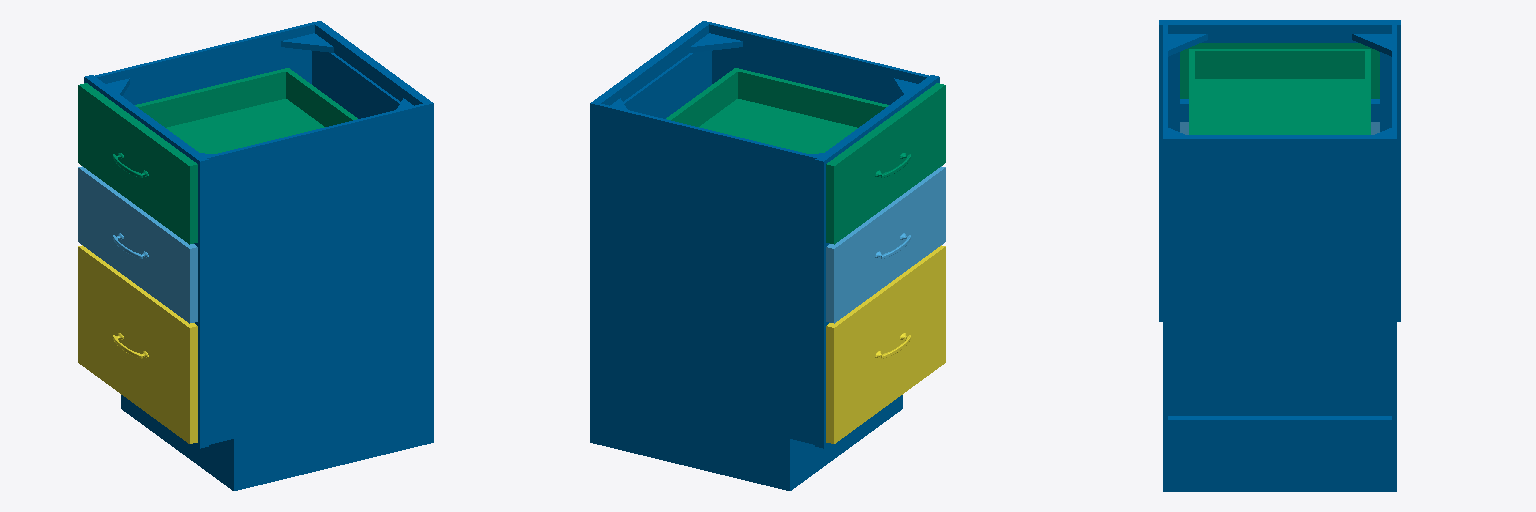
The robot description file, URDF, robot "partnet_226873c8d34e38286d53ab0fe94e911":
<?xml version="1.0" ?>
<robot name="partnet_226873c8d34e38286d53ab0fe94e911">
	<link name="base"/>
	<link name="link_0">
		<visual name="drawer_front-23">
			<origin xyz="-0.005183818093392495 -0.1600198556111904 -0.56632399559021"/>
			<geometry>
				<mesh filename="textured_objs/original-41.obj"/>
			</geometry>
		</visual>
		<visual name="drawer_front-23">
			<origin xyz="-0.005183818093392495 -0.1600198556111904 -0.56632399559021"/>
			<geometry>
				<mesh filename="textured_objs/original-49.obj"/>
			</geometry>
		</visual>
		<visual name="drawer_side-24">
			<origin xyz="-0.005183818093392495 -0.1600198556111904 -0.56632399559021"/>
			<geometry>
				<mesh filename="textured_objs/original-40.obj"/>
			</geometry>
		</visual>
		<visual name="drawer_side-25">
			<origin xyz="-0.005183818093392495 -0.1600198556111904 -0.56632399559021"/>
			<geometry>
				<mesh filename="textured_objs/original-45.obj"/>
			</geometry>
		</visual>
		<visual name="drawer_back-26">
			<origin xyz="-0.005183818093392495 -0.1600198556111904 -0.56632399559021"/>
			<geometry>
				<mesh filename="textured_objs/original-46.obj"/>
			</geometry>
		</visual>
		<visual name="drawer_bottom-27">
			<origin xyz="-0.005183818093392495 -0.1600198556111904 -0.56632399559021"/>
			<geometry>
				<mesh filename="textured_objs/original-44.obj"/>
			</geometry>
		</visual>
		<visual name="drawer_bottom-27">
			<origin xyz="-0.005183818093392495 -0.1600198556111904 -0.56632399559021"/>
			<geometry>
				<mesh filename="textured_objs/original-43.obj"/>
			</geometry>
		</visual>
		<visual name="handle-22">
			<origin xyz="-0.005183818093392495 -0.1600198556111904 -0.56632399559021"/>
			<geometry>
				<mesh filename="textured_objs/original-50.obj"/>
			</geometry>
		</visual>
		<visual name="drawer_slider-56">
			<origin xyz="-0.005183818093392495 -0.1600198556111904 -0.56632399559021"/>
			<geometry>
				<mesh filename="textured_objs/original-47.obj"/>
			</geometry>
		</visual>
		<collision>
			<origin xyz="-0.005183818093392495 -0.1600198556111904 -0.56632399559021"/>
			<geometry>
				<mesh filename="textured_objs/original-41.obj"/>
			</geometry>
		</collision>
		<collision>
			<origin xyz="-0.005183818093392495 -0.1600198556111904 -0.56632399559021"/>
			<geometry>
				<mesh filename="textured_objs/original-49.obj"/>
			</geometry>
		</collision>
		<collision>
			<origin xyz="-0.005183818093392495 -0.1600198556111904 -0.56632399559021"/>
			<geometry>
				<mesh filename="textured_objs/original-40.obj"/>
			</geometry>
		</collision>
		<collision>
			<origin xyz="-0.005183818093392495 -0.1600198556111904 -0.56632399559021"/>
			<geometry>
				<mesh filename="textured_objs/original-45.obj"/>
			</geometry>
		</collision>
		<collision>
			<origin xyz="-0.005183818093392495 -0.1600198556111904 -0.56632399559021"/>
			<geometry>
				<mesh filename="textured_objs/original-46.obj"/>
			</geometry>
		</collision>
		<collision>
			<origin xyz="-0.005183818093392495 -0.1600198556111904 -0.56632399559021"/>
			<geometry>
				<mesh filename="textured_objs/original-44.obj"/>
			</geometry>
		</collision>
		<collision>
			<origin xyz="-0.005183818093392495 -0.1600198556111904 -0.56632399559021"/>
			<geometry>
				<mesh filename="textured_objs/original-43.obj"/>
			</geometry>
		</collision>
		<collision>
			<origin xyz="-0.005183818093392495 -0.1600198556111904 -0.56632399559021"/>
			<geometry>
				<mesh filename="textured_objs/original-50.obj"/>
			</geometry>
		</collision>
		<collision>
			<origin xyz="-0.005183818093392495 -0.1600198556111904 -0.56632399559021"/>
			<geometry>
				<mesh filename="textured_objs/original-47.obj"/>
			</geometry>
		</collision>
	</link>
	<joint name="joint_0" type="prismatic">
		<origin xyz="0.005183818093392495 0.1600198556111904 0.56632399559021"/>
		<axis xyz="0 0 0.9999999999999999"/>
		<child link="link_0"/>
		<parent link="link_3"/>
		<limit lower="0" upper="0.7240000000000002"/>
	</joint>
	<link name="link_1">
		<visual name="drawer_front-16">
			<origin xyz="-0.028953681445611588 -0.5145035068587894 -0.56632399559021"/>
			<geometry>
				<mesh filename="textured_objs/original-28.obj"/>
			</geometry>
		</visual>
		<visual name="drawer_front-16">
			<origin xyz="-0.028953681445611588 -0.5145035068587894 -0.56632399559021"/>
			<geometry>
				<mesh filename="textured_objs/original-36.obj"/>
			</geometry>
		</visual>
		<visual name="drawer_side-17">
			<origin xyz="-0.028953681445611588 -0.5145035068587894 -0.56632399559021"/>
			<geometry>
				<mesh filename="textured_objs/original-27.obj"/>
			</geometry>
		</visual>
		<visual name="drawer_side-18">
			<origin xyz="-0.028953681445611588 -0.5145035068587894 -0.56632399559021"/>
			<geometry>
				<mesh filename="textured_objs/original-32.obj"/>
			</geometry>
		</visual>
		<visual name="drawer_back-19">
			<origin xyz="-0.028953681445611588 -0.5145035068587894 -0.56632399559021"/>
			<geometry>
				<mesh filename="textured_objs/original-33.obj"/>
			</geometry>
		</visual>
		<visual name="drawer_bottom-20">
			<origin xyz="-0.028953681445611588 -0.5145035068587894 -0.56632399559021"/>
			<geometry>
				<mesh filename="textured_objs/original-31.obj"/>
			</geometry>
		</visual>
		<visual name="drawer_bottom-20">
			<origin xyz="-0.028953681445611588 -0.5145035068587894 -0.56632399559021"/>
			<geometry>
				<mesh filename="textured_objs/original-30.obj"/>
			</geometry>
		</visual>
		<visual name="handle-15">
			<origin xyz="-0.028953681445611588 -0.5145035068587894 -0.56632399559021"/>
			<geometry>
				<mesh filename="textured_objs/original-37.obj"/>
			</geometry>
		</visual>
		<visual name="drawer_slider-57">
			<origin xyz="-0.028953681445611588 -0.5145035068587894 -0.56632399559021"/>
			<geometry>
				<mesh filename="textured_objs/original-34.obj"/>
			</geometry>
		</visual>
		<collision>
			<origin xyz="-0.028953681445611588 -0.5145035068587894 -0.56632399559021"/>
			<geometry>
				<mesh filename="textured_objs/original-28.obj"/>
			</geometry>
		</collision>
		<collision>
			<origin xyz="-0.028953681445611588 -0.5145035068587894 -0.56632399559021"/>
			<geometry>
				<mesh filename="textured_objs/original-36.obj"/>
			</geometry>
		</collision>
		<collision>
			<origin xyz="-0.028953681445611588 -0.5145035068587894 -0.56632399559021"/>
			<geometry>
				<mesh filename="textured_objs/original-27.obj"/>
			</geometry>
		</collision>
		<collision>
			<origin xyz="-0.028953681445611588 -0.5145035068587894 -0.56632399559021"/>
			<geometry>
				<mesh filename="textured_objs/original-32.obj"/>
			</geometry>
		</collision>
		<collision>
			<origin xyz="-0.028953681445611588 -0.5145035068587894 -0.56632399559021"/>
			<geometry>
				<mesh filename="textured_objs/original-33.obj"/>
			</geometry>
		</collision>
		<collision>
			<origin xyz="-0.028953681445611588 -0.5145035068587894 -0.56632399559021"/>
			<geometry>
				<mesh filename="textured_objs/original-31.obj"/>
			</geometry>
		</collision>
		<collision>
			<origin xyz="-0.028953681445611588 -0.5145035068587894 -0.56632399559021"/>
			<geometry>
				<mesh filename="textured_objs/original-30.obj"/>
			</geometry>
		</collision>
		<collision>
			<origin xyz="-0.028953681445611588 -0.5145035068587894 -0.56632399559021"/>
			<geometry>
				<mesh filename="textured_objs/original-37.obj"/>
			</geometry>
		</collision>
		<collision>
			<origin xyz="-0.028953681445611588 -0.5145035068587894 -0.56632399559021"/>
			<geometry>
				<mesh filename="textured_objs/original-34.obj"/>
			</geometry>
		</collision>
	</link>
	<joint name="joint_1" type="prismatic">
		<origin xyz="0.028953681445611588 0.5145035068587894 0.56632399559021"/>
		<axis xyz="0 0 1"/>
		<child link="link_1"/>
		<parent link="link_3"/>
		<limit lower="0" upper="0.7240000000000002"/>
	</joint>
	<link name="link_2">
		<visual name="drawer_front-9">
			<origin xyz="-0.027770871365069984 0.23903412305902877 0.5026260018348694"/>
			<geometry>
				<mesh filename="textured_objs/original-54.obj"/>
			</geometry>
		</visual>
		<visual name="drawer_front-9">
			<origin xyz="-0.027770871365069984 0.23903412305902877 0.5026260018348694"/>
			<geometry>
				<mesh filename="textured_objs/original-62.obj"/>
			</geometry>
		</visual>
		<visual name="drawer_side-10">
			<origin xyz="-0.027770871365069984 0.23903412305902877 0.5026260018348694"/>
			<geometry>
				<mesh filename="textured_objs/original-58.obj"/>
			</geometry>
		</visual>
		<visual name="drawer_side-11">
			<origin xyz="-0.027770871365069984 0.23903412305902877 0.5026260018348694"/>
			<geometry>
				<mesh filename="textured_objs/original-53.obj"/>
			</geometry>
		</visual>
		<visual name="drawer_back-12">
			<origin xyz="-0.027770871365069984 0.23903412305902877 0.5026260018348694"/>
			<geometry>
				<mesh filename="textured_objs/original-59.obj"/>
			</geometry>
		</visual>
		<visual name="drawer_bottom-13">
			<origin xyz="-0.027770871365069984 0.23903412305902877 0.5026260018348694"/>
			<geometry>
				<mesh filename="textured_objs/original-57.obj"/>
			</geometry>
		</visual>
		<visual name="drawer_bottom-13">
			<origin xyz="-0.027770871365069984 0.23903412305902877 0.5026260018348694"/>
			<geometry>
				<mesh filename="textured_objs/original-56.obj"/>
			</geometry>
		</visual>
		<visual name="handle-8">
			<origin xyz="-0.027770871365069984 0.23903412305902877 0.5026260018348694"/>
			<geometry>
				<mesh filename="textured_objs/original-63.obj"/>
			</geometry>
		</visual>
		<visual name="drawer_slider-58">
			<origin xyz="-0.027770871365069984 0.23903412305902877 0.5026260018348694"/>
			<geometry>
				<mesh filename="textured_objs/original-60.obj"/>
			</geometry>
		</visual>
		<collision>
			<origin xyz="-0.027770871365069984 0.23903412305902877 0.5026260018348694"/>
			<geometry>
				<mesh filename="textured_objs/original-54.obj"/>
			</geometry>
		</collision>
		<collision>
			<origin xyz="-0.027770871365069984 0.23903412305902877 0.5026260018348694"/>
			<geometry>
				<mesh filename="textured_objs/original-62.obj"/>
			</geometry>
		</collision>
		<collision>
			<origin xyz="-0.027770871365069984 0.23903412305902877 0.5026260018348694"/>
			<geometry>
				<mesh filename="textured_objs/original-58.obj"/>
			</geometry>
		</collision>
		<collision>
			<origin xyz="-0.027770871365069984 0.23903412305902877 0.5026260018348694"/>
			<geometry>
				<mesh filename="textured_objs/original-53.obj"/>
			</geometry>
		</collision>
		<collision>
			<origin xyz="-0.027770871365069984 0.23903412305902877 0.5026260018348694"/>
			<geometry>
				<mesh filename="textured_objs/original-59.obj"/>
			</geometry>
		</collision>
		<collision>
			<origin xyz="-0.027770871365069984 0.23903412305902877 0.5026260018348694"/>
			<geometry>
				<mesh filename="textured_objs/original-57.obj"/>
			</geometry>
		</collision>
		<collision>
			<origin xyz="-0.027770871365069984 0.23903412305902877 0.5026260018348694"/>
			<geometry>
				<mesh filename="textured_objs/original-56.obj"/>
			</geometry>
		</collision>
		<collision>
			<origin xyz="-0.027770871365069984 0.23903412305902877 0.5026260018348694"/>
			<geometry>
				<mesh filename="textured_objs/original-63.obj"/>
			</geometry>
		</collision>
		<collision>
			<origin xyz="-0.027770871365069984 0.23903412305902877 0.5026260018348694"/>
			<geometry>
				<mesh filename="textured_objs/original-60.obj"/>
			</geometry>
		</collision>
	</link>
	<joint name="joint_2" type="prismatic">
		<origin xyz="0.027770871365069984 -0.23903412305902877 -0.5026260018348694"/>
		<axis xyz="0 0 1"/>
		<child link="link_2"/>
		<parent link="link_3"/>
		<limit lower="0" upper="0.7240000000000002"/>
	</joint>
	<link name="link_3">
		<visual name="back_panel-35">
			<origin xyz="0 0 0"/>
			<geometry>
				<mesh filename="textured_objs/original-5.obj"/>
			</geometry>
		</visual>
		<visual name="bottom_panel-36">
			<origin xyz="0 0 0"/>
			<geometry>
				<mesh filename="textured_objs/original-2.obj"/>
			</geometry>
		</visual>
		<visual name="top_panel-37">
			<origin xyz="0 0 0"/>
			<geometry>
				<mesh filename="textured_objs/original-3.obj"/>
			</geometry>
		</visual>
		<visual name="frame_vertical_bar-38">
			<origin xyz="0 0 0"/>
			<geometry>
				<mesh filename="textured_objs/original-7.obj"/>
			</geometry>
		</visual>
		<visual name="frame_horizontal_bar-39">
			<origin xyz="0 0 0"/>
			<geometry>
				<mesh filename="textured_objs/original-8.obj"/>
			</geometry>
		</visual>
		<visual name="frame_horizontal_bar-40">
			<origin xyz="0 0 0"/>
			<geometry>
				<mesh filename="textured_objs/original-24.obj"/>
			</geometry>
		</visual>
		<visual name="frame_horizontal_bar-41">
			<origin xyz="0 0 0"/>
			<geometry>
				<mesh filename="textured_objs/original-6.obj"/>
			</geometry>
		</visual>
		<visual name="frame_horizontal_bar-42">
			<origin xyz="0 0 0"/>
			<geometry>
				<mesh filename="textured_objs/original-17.obj"/>
			</geometry>
		</visual>
		<visual name="other_leaf-50">
			<origin xyz="0 0 0"/>
			<geometry>
				<mesh filename="textured_objs/original-22.obj"/>
			</geometry>
		</visual>
		<visual name="other_leaf-49">
			<origin xyz="0 0 0"/>
			<geometry>
				<mesh filename="textured_objs/original-23.obj"/>
			</geometry>
		</visual>
		<visual name="other_leaf-48">
			<origin xyz="0 0 0"/>
			<geometry>
				<mesh filename="textured_objs/original-20.obj"/>
			</geometry>
		</visual>
		<visual name="other_leaf-47">
			<origin xyz="0 0 0"/>
			<geometry>
				<mesh filename="textured_objs/original-21.obj"/>
			</geometry>
		</visual>
		<visual name="vertical_side_panel-51">
			<origin xyz="0 0 0"/>
			<geometry>
				<mesh filename="textured_objs/original-11.obj"/>
			</geometry>
		</visual>
		<visual name="vertical_side_panel-51">
			<origin xyz="0 0 0"/>
			<geometry>
				<mesh filename="textured_objs/original-10.obj"/>
			</geometry>
		</visual>
		<visual name="vertical_side_panel-52">
			<origin xyz="0 0 0"/>
			<geometry>
				<mesh filename="textured_objs/original-15.obj"/>
			</geometry>
		</visual>
		<visual name="vertical_side_panel-52">
			<origin xyz="0 0 0"/>
			<geometry>
				<mesh filename="textured_objs/original-14.obj"/>
			</geometry>
		</visual>
		<visual name="other_leaf-54">
			<origin xyz="0 0 0"/>
			<geometry>
				<mesh filename="textured_objs/original-64.obj"/>
			</geometry>
		</visual>
		<visual name="frame_horizontal_bar-55">
			<origin xyz="0 0 0"/>
			<geometry>
				<mesh filename="textured_objs/original-4.obj"/>
			</geometry>
		</visual>
		<visual name="base_side_panel-29">
			<origin xyz="0 0 0"/>
			<geometry>
				<mesh filename="textured_objs/original-12.obj"/>
			</geometry>
		</visual>
		<visual name="base_side_panel-30">
			<origin xyz="0 0 0"/>
			<geometry>
				<mesh filename="textured_objs/original-18.obj"/>
			</geometry>
		</visual>
		<visual name="base_side_panel-31">
			<origin xyz="0 0 0"/>
			<geometry>
				<mesh filename="textured_objs/original-16.obj"/>
			</geometry>
		</visual>
		<visual name="base_side_panel-32">
			<origin xyz="0 0 0"/>
			<geometry>
				<mesh filename="textured_objs/original-19.obj"/>
			</geometry>
		</visual>
		<collision>
			<origin xyz="0 0 0"/>
			<geometry>
				<mesh filename="textured_objs/original-5.obj"/>
			</geometry>
		</collision>
		<collision>
			<origin xyz="0 0 0"/>
			<geometry>
				<mesh filename="textured_objs/original-2.obj"/>
			</geometry>
		</collision>
		<collision>
			<origin xyz="0 0 0"/>
			<geometry>
				<mesh filename="textured_objs/original-3.obj"/>
			</geometry>
		</collision>
		<collision>
			<origin xyz="0 0 0"/>
			<geometry>
				<mesh filename="textured_objs/original-7.obj"/>
			</geometry>
		</collision>
		<collision>
			<origin xyz="0 0 0"/>
			<geometry>
				<mesh filename="textured_objs/original-8.obj"/>
			</geometry>
		</collision>
		<collision>
			<origin xyz="0 0 0"/>
			<geometry>
				<mesh filename="textured_objs/original-24.obj"/>
			</geometry>
		</collision>
		<collision>
			<origin xyz="0 0 0"/>
			<geometry>
				<mesh filename="textured_objs/original-6.obj"/>
			</geometry>
		</collision>
		<collision>
			<origin xyz="0 0 0"/>
			<geometry>
				<mesh filename="textured_objs/original-17.obj"/>
			</geometry>
		</collision>
		<collision>
			<origin xyz="0 0 0"/>
			<geometry>
				<mesh filename="textured_objs/original-22.obj"/>
			</geometry>
		</collision>
		<collision>
			<origin xyz="0 0 0"/>
			<geometry>
				<mesh filename="textured_objs/original-23.obj"/>
			</geometry>
		</collision>
		<collision>
			<origin xyz="0 0 0"/>
			<geometry>
				<mesh filename="textured_objs/original-20.obj"/>
			</geometry>
		</collision>
		<collision>
			<origin xyz="0 0 0"/>
			<geometry>
				<mesh filename="textured_objs/original-21.obj"/>
			</geometry>
		</collision>
		<collision>
			<origin xyz="0 0 0"/>
			<geometry>
				<mesh filename="textured_objs/original-11.obj"/>
			</geometry>
		</collision>
		<collision>
			<origin xyz="0 0 0"/>
			<geometry>
				<mesh filename="textured_objs/original-10.obj"/>
			</geometry>
		</collision>
		<collision>
			<origin xyz="0 0 0"/>
			<geometry>
				<mesh filename="textured_objs/original-15.obj"/>
			</geometry>
		</collision>
		<collision>
			<origin xyz="0 0 0"/>
			<geometry>
				<mesh filename="textured_objs/original-14.obj"/>
			</geometry>
		</collision>
		<collision>
			<origin xyz="0 0 0"/>
			<geometry>
				<mesh filename="textured_objs/original-64.obj"/>
			</geometry>
		</collision>
		<collision>
			<origin xyz="0 0 0"/>
			<geometry>
				<mesh filename="textured_objs/original-4.obj"/>
			</geometry>
		</collision>
		<collision>
			<origin xyz="0 0 0"/>
			<geometry>
				<mesh filename="textured_objs/original-12.obj"/>
			</geometry>
		</collision>
		<collision>
			<origin xyz="0 0 0"/>
			<geometry>
				<mesh filename="textured_objs/original-18.obj"/>
			</geometry>
		</collision>
		<collision>
			<origin xyz="0 0 0"/>
			<geometry>
				<mesh filename="textured_objs/original-16.obj"/>
			</geometry>
		</collision>
		<collision>
			<origin xyz="0 0 0"/>
			<geometry>
				<mesh filename="textured_objs/original-19.obj"/>
			</geometry>
		</collision>
	</link>
	<joint name="joint_3" type="fixed">
		<origin rpy="1.570796326794897 0 -1.570796326794897" xyz="0 0 0"/>
		<child link="link_3"/>
		<parent link="base"/>
	</joint>
</robot>

--- Facts derived from the render (not from the file) ---
3 views of the same robot in one strip: view 1: azimuth 30°, elevation 25°; view 2: azimuth 150°, elevation 25°; view 3: azimuth 270°, elevation 25° (orthographic).
Model partnet_226873c8d34e38286d53ab0fe94e911 with 5 links and 4 joints (3 prismatic, 1 fixed), rooted at base, posed every joint at zero.
Links seen in each view (by area): view 1: link_3, link_1, link_2, link_0; view 2: link_3, link_1, link_2, link_0; view 3: link_3, link_1.
Link boxes in pixels (box(x1,y1,x2,y2)): link_3: box(84, 21, 433, 490); link_1: box(78, 68, 357, 244); link_2: box(78, 245, 197, 443); link_0: box(78, 166, 197, 323); link_3: box(590, 21, 939, 490); link_1: box(666, 68, 945, 244); link_2: box(826, 245, 945, 443); link_0: box(826, 166, 945, 323); link_3: box(1159, 20, 1400, 491); link_1: box(1180, 43, 1379, 134).
Bounding box of the posed robot: 1.17 × 0.9273 × 1.49 m (x, y, z).
Meshes: 49 distinct files referenced, 49 mesh visuals loaded (49 OBJ).